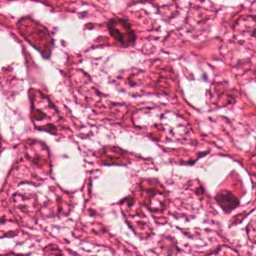mitosis: (112, 38, 122, 48)
